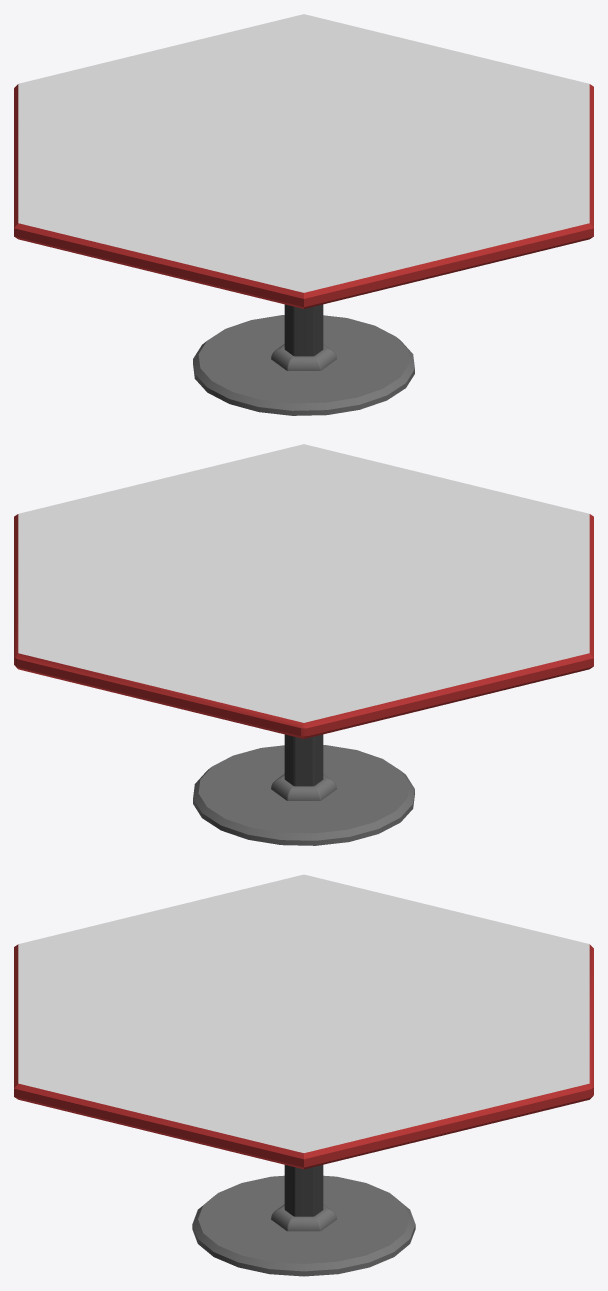
Rendered from table.fbx.
3 views of the same model, one above another, from view 1: azimuth 30°, elevation 25°; view 2: azimuth 150°, elevation 25°; view 3: azimuth 270°, elevation 25° (orthographic).
Parts seen in each view (by area): view 1: pCylinder1, pCylinder3, pCylinder2, pTorus1; view 2: pCylinder1, pCylinder3, pCylinder2, pTorus1; view 3: pCylinder1, pCylinder3, pCylinder2, pTorus1.
Boxes of the visible parts, x1,y1,x2,y2 form: pCylinder1: (14, 14, 593, 308); pCylinder3: (193, 315, 414, 415); pCylinder2: (284, 304, 323, 356); pTorus1: (271, 344, 336, 370); pCylinder1: (14, 444, 593, 738); pCylinder3: (193, 745, 414, 845); pCylinder2: (284, 734, 323, 786); pTorus1: (271, 774, 336, 800); pCylinder1: (14, 874, 593, 1169); pCylinder3: (192, 1175, 415, 1276); pCylinder2: (284, 1165, 323, 1216); pTorus1: (271, 1204, 336, 1231).
Size of the model in its own units: 3 by 1.06 by 2.6.
